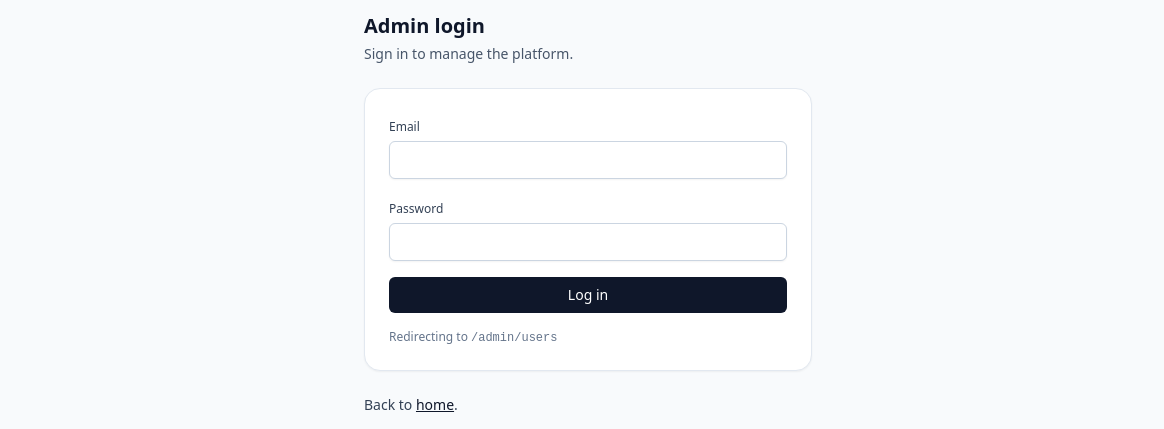
Test: AdminLoginPage › stores admin token and navigates to a safe admin returnUrl
The width and height of the screenshot is (1164, 429).
Type "admin@example.com" into the field labelled "Email".
click(588, 160); type("admin@example.com")  # box [389,141,787,179]
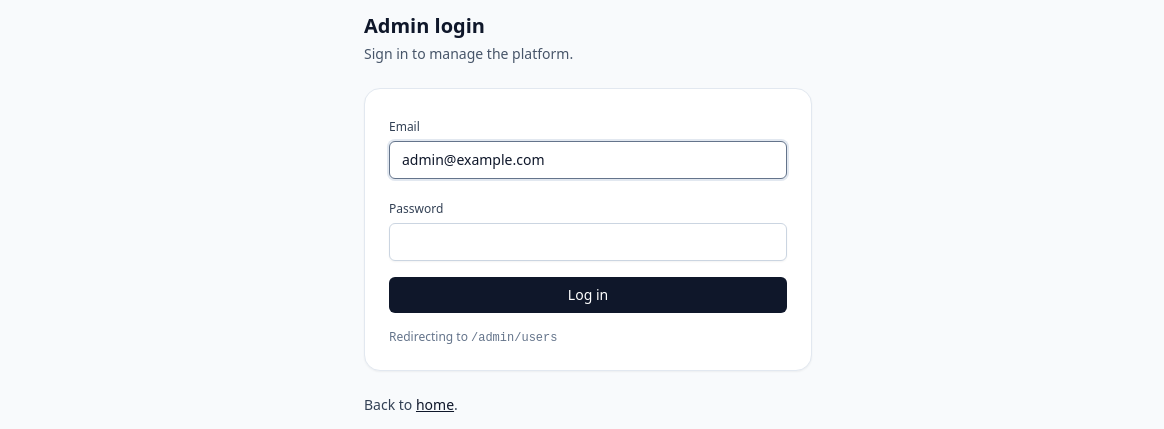
Type "secret" into the password field labelled "Password".
click(588, 242); type("secret")  # box [389,223,787,261]
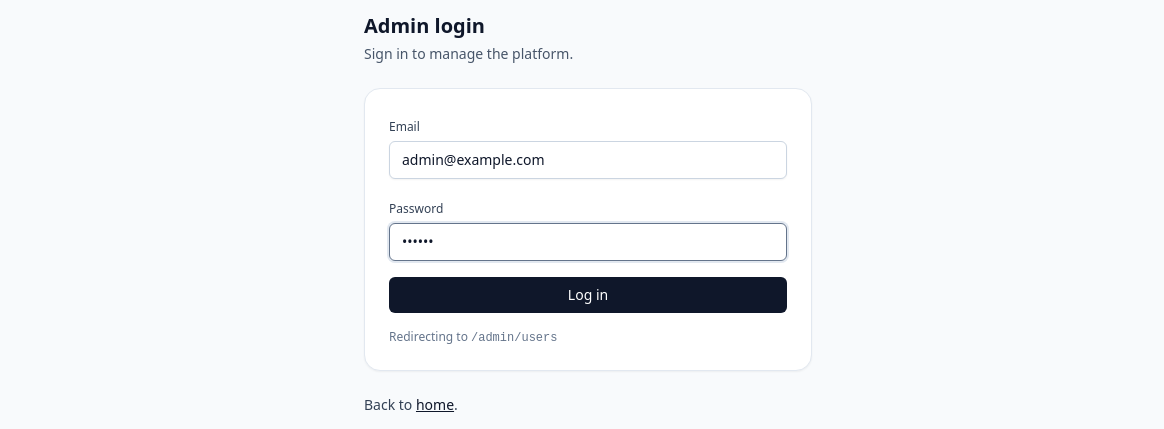
Click the button "Log in".
click(588, 295)  # box [389,277,787,313]
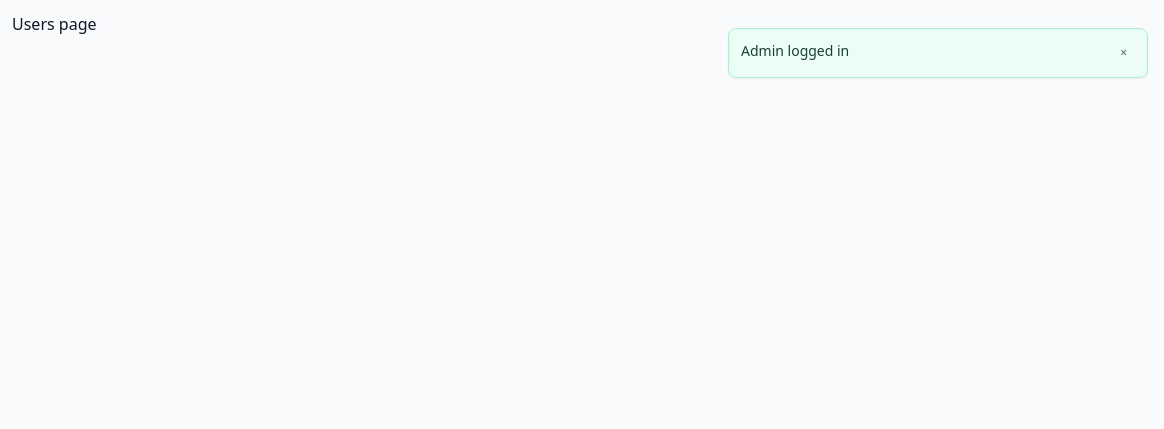
Result: the text "Users page" is shown at [12,13,96,35]
